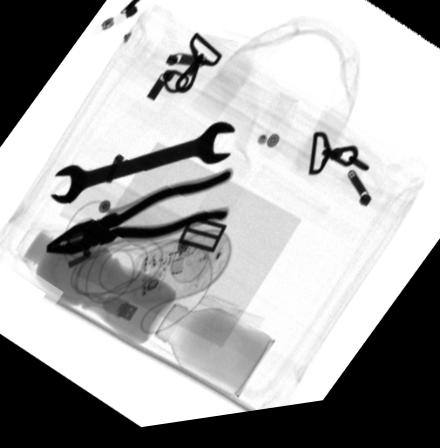Pliers: (42, 172, 233, 259)
Wrench: (48, 129, 234, 208)
